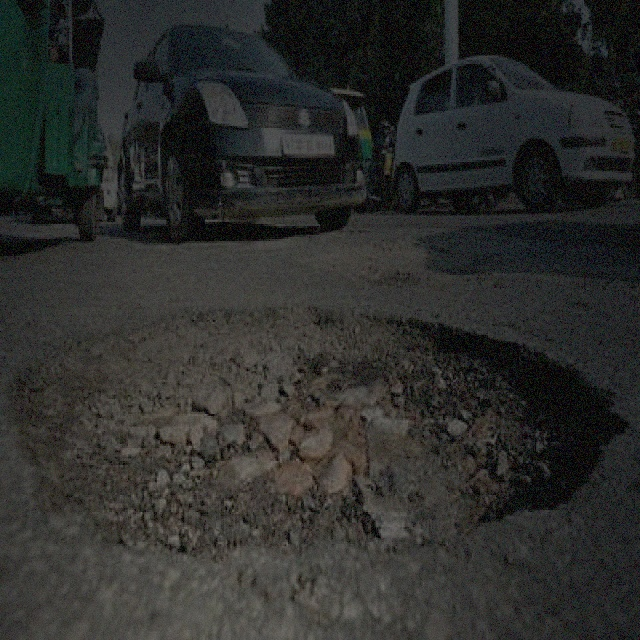pothole: (5, 299, 629, 561), (315, 235, 451, 286)
